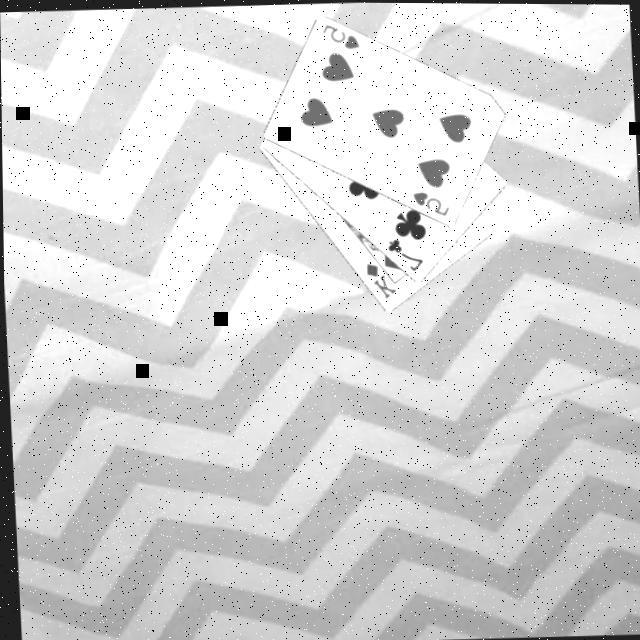5H: (406, 187, 449, 220), (317, 20, 360, 53)
7C: (381, 234, 423, 276)
KD: (358, 259, 396, 302)
